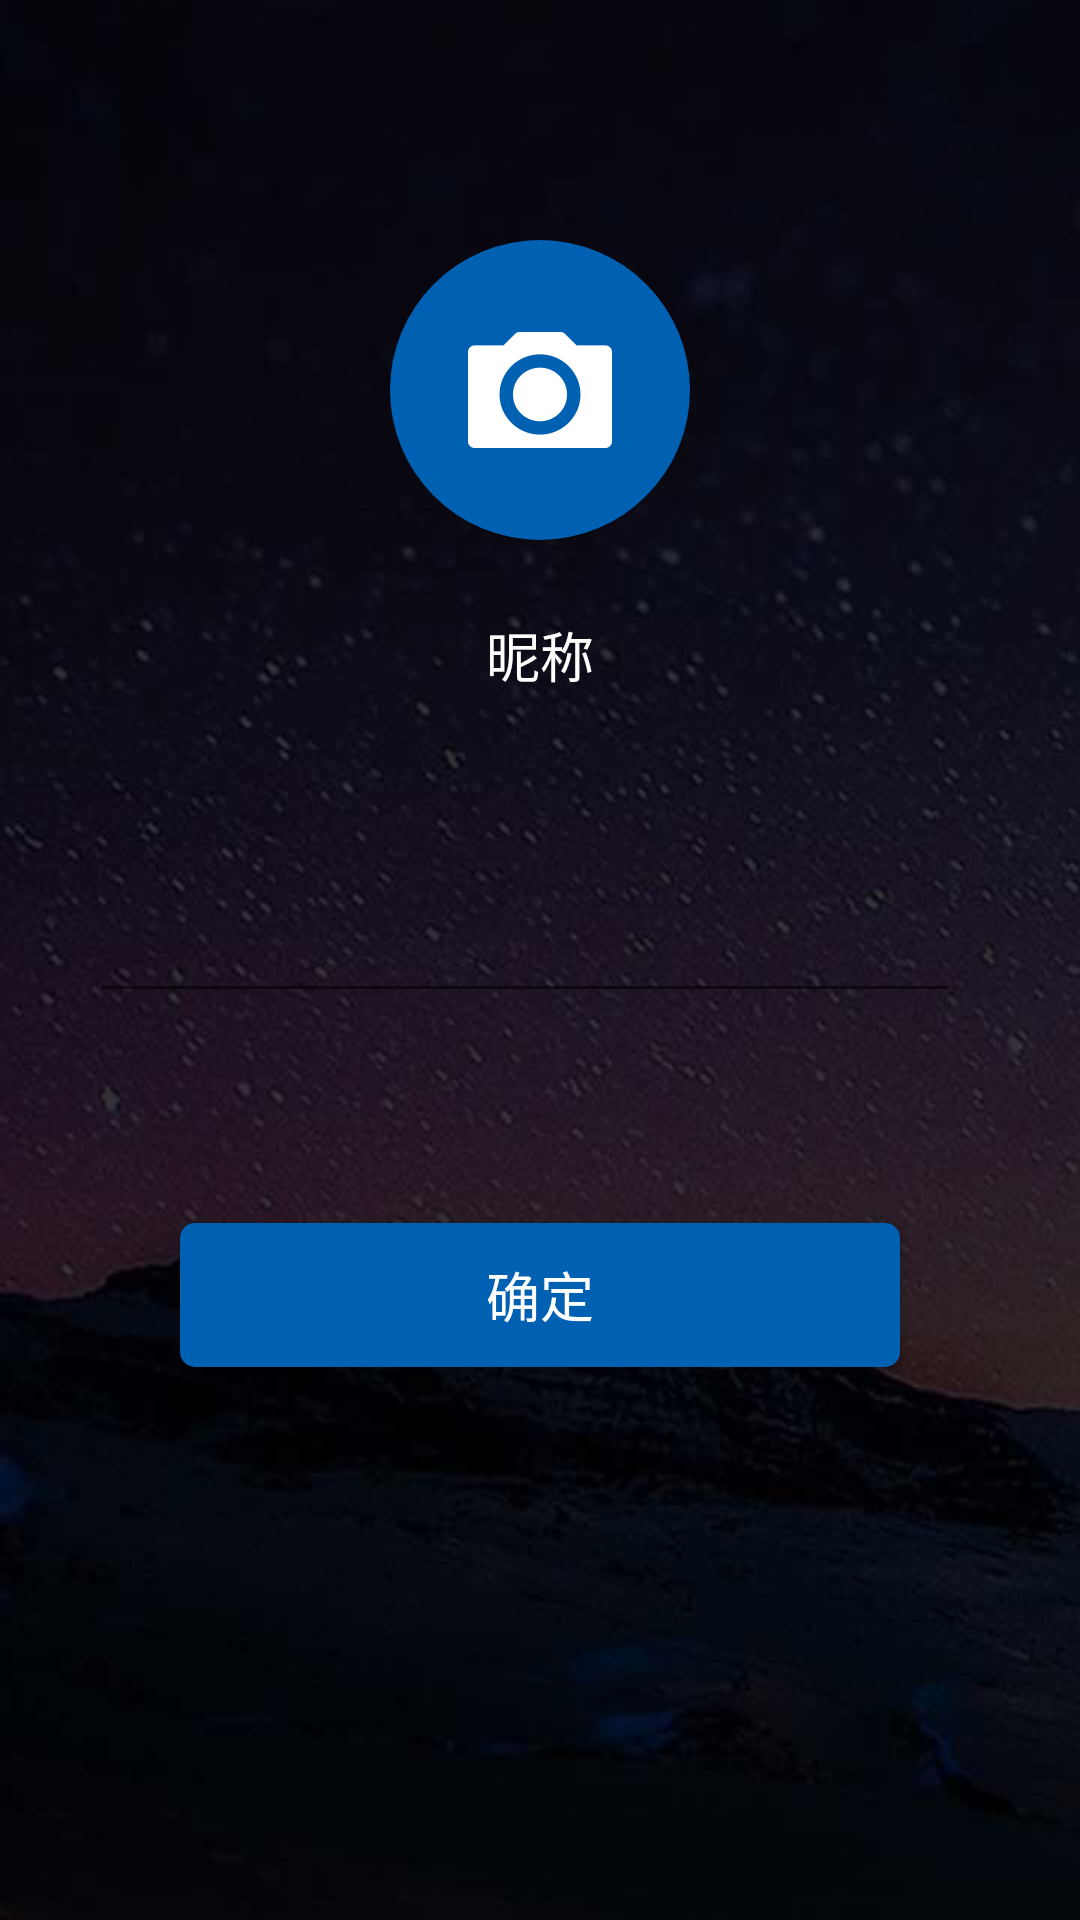

Locate icon controls on the screen. Image size 1080×1920, boxes as [x1, y1, x2, y2].
camera: [390, 240, 690, 540]
